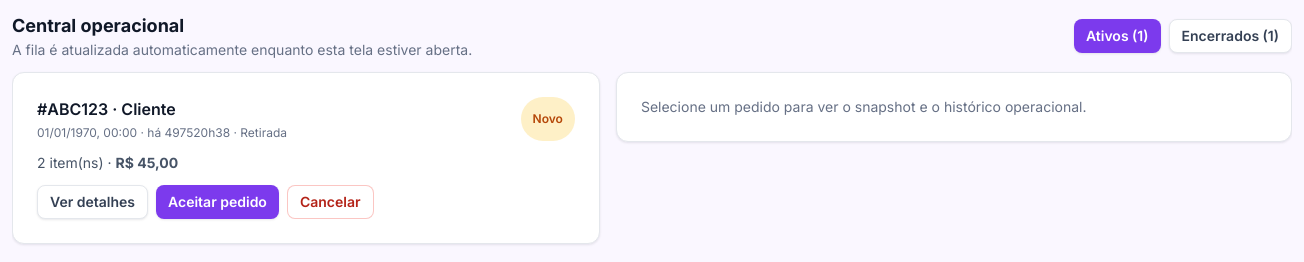
Test: operação de pedidos no painel › separa encerrados da fila ativa
This screenshot has width=1304, height=262.
Expected: the text "DONE99" is not shown
Click the tab "Encerrados (1)" at (1230, 36), box x1=1168 y1=19 x2=1292 y2=53
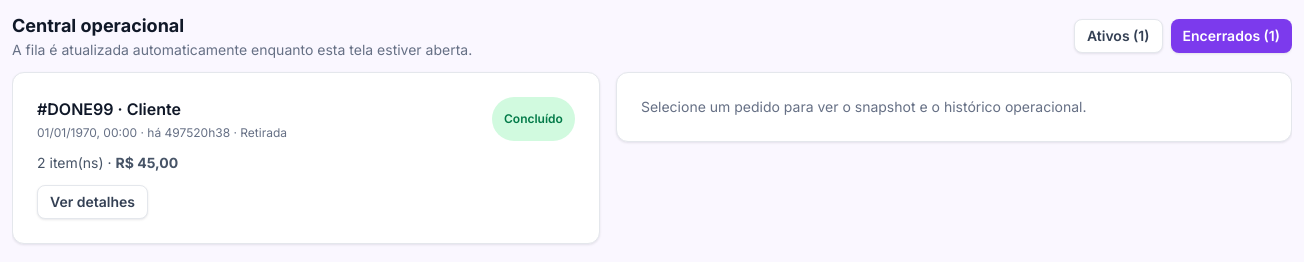
Now the text "#DONE99 · Cliente" is shown, box x1=37 y1=99 x2=181 y2=119
Now the text "ABC123" is gone
